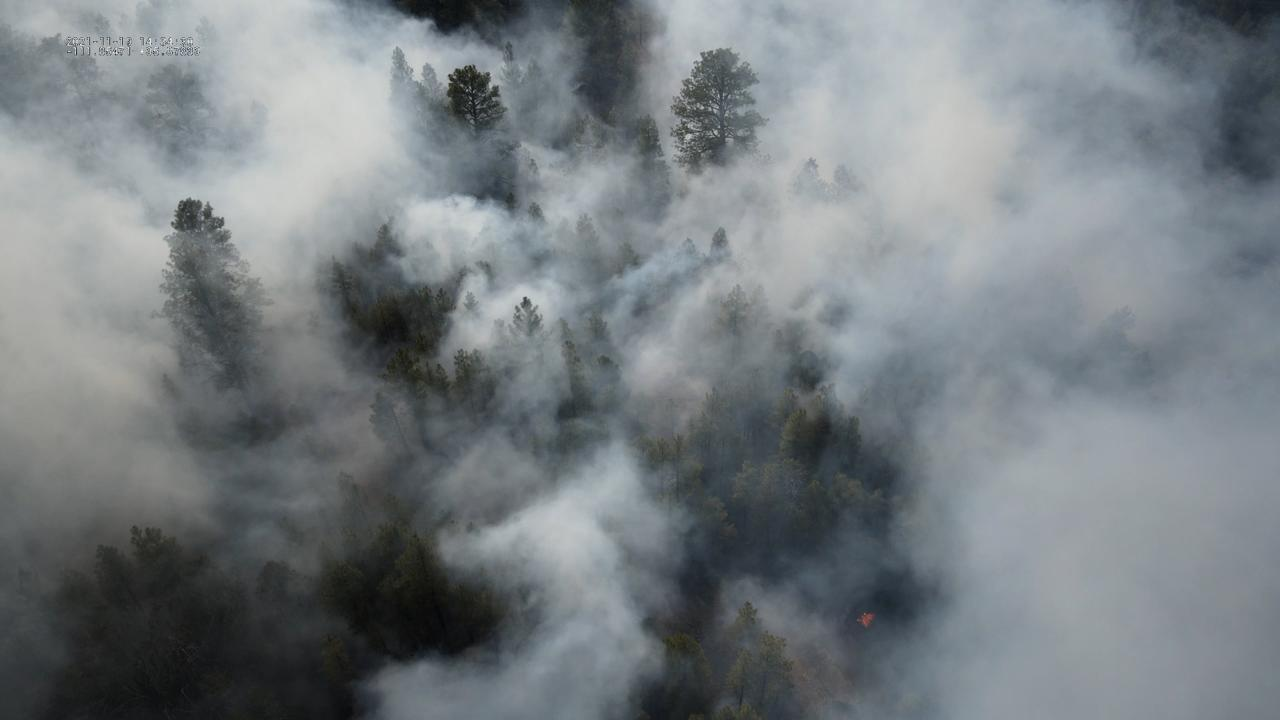fire: (853, 612, 876, 631)
smoke: (0, 0, 1280, 720)
